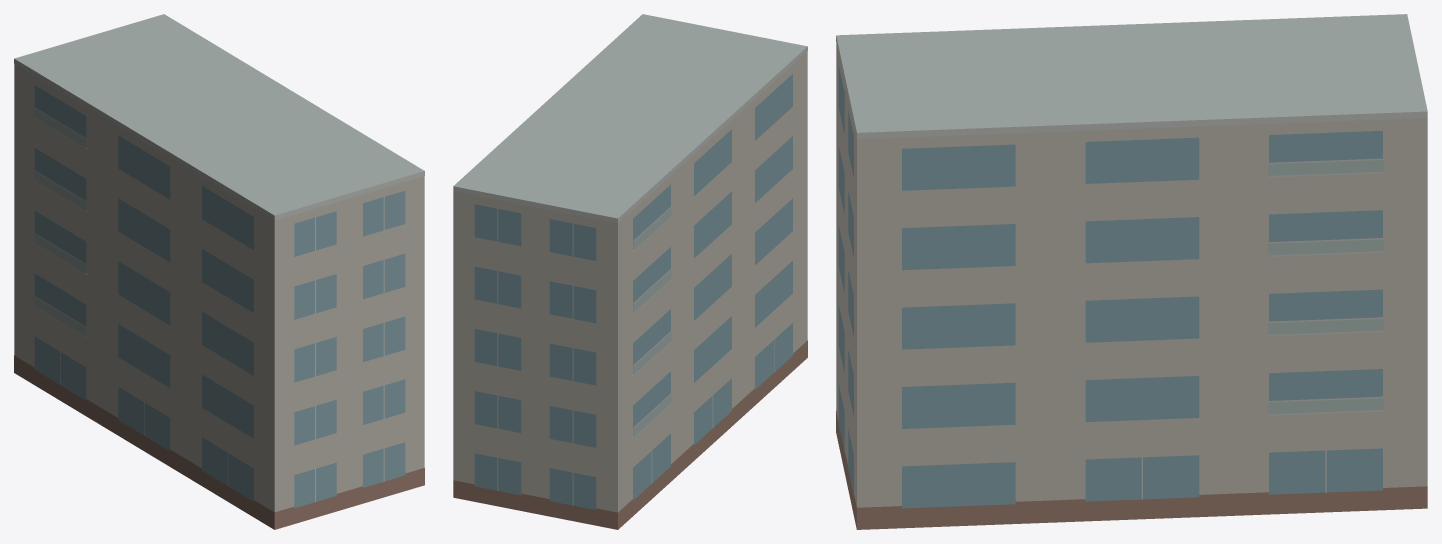
The model's file is survey-upis-32699915.glb.
The picture shows the model from 3 angles, left to right: view 1: azimuth 30°, elevation 25°; view 2: azimuth 150°, elevation 25°; view 3: azimuth 270°, elevation 25°; orthographic projection. The views are drawn at different scales.
Parts seen in each view (by area): view 1: survey-upis-32699915.tmp; view 2: survey-upis-32699915.tmp; view 3: survey-upis-32699915.tmp.
Boxes of the visible parts, left/top/right/bottom form: survey-upis-32699915.tmp: left=14, top=14, right=424, bottom=529; survey-upis-32699915.tmp: left=453, top=14, right=807, bottom=529; survey-upis-32699915.tmp: left=836, top=14, right=1427, bottom=529.
Size of the model in its own units: 9.8 by 15.25 by 20.61.
